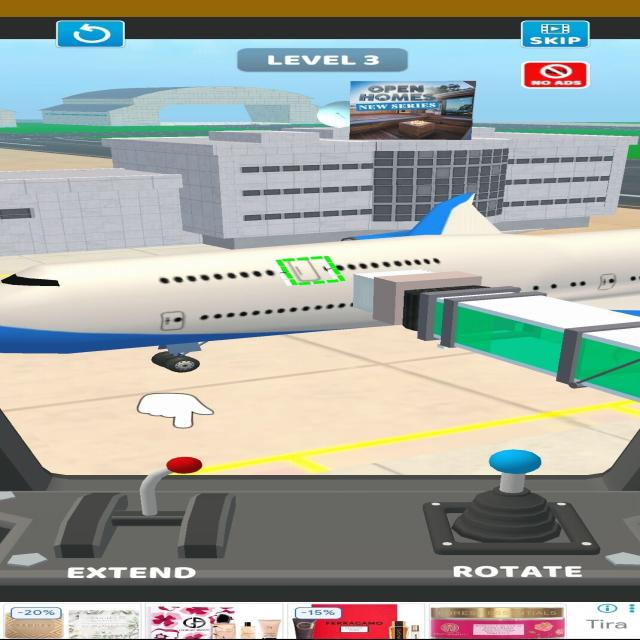billboard: (349, 79, 480, 141)
